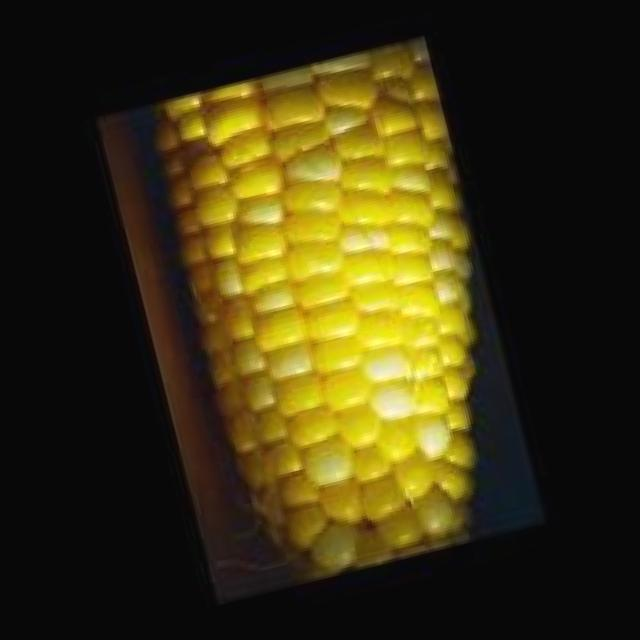corn: (116, 39, 477, 583)
